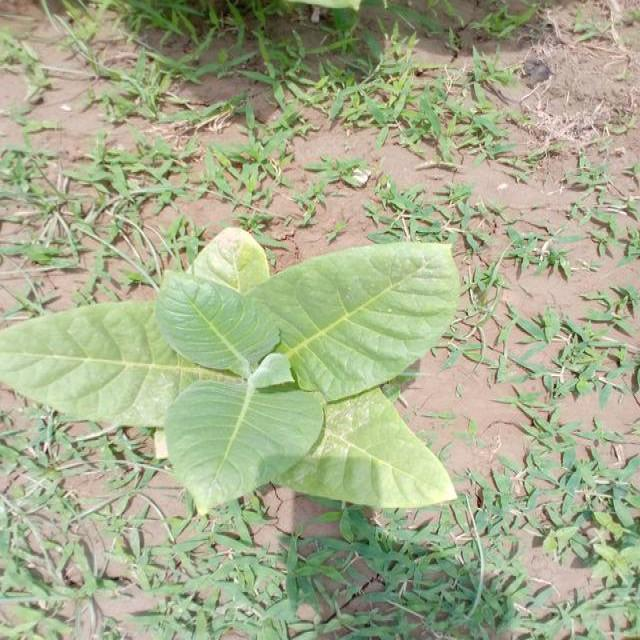crop: (5, 242, 472, 523)
